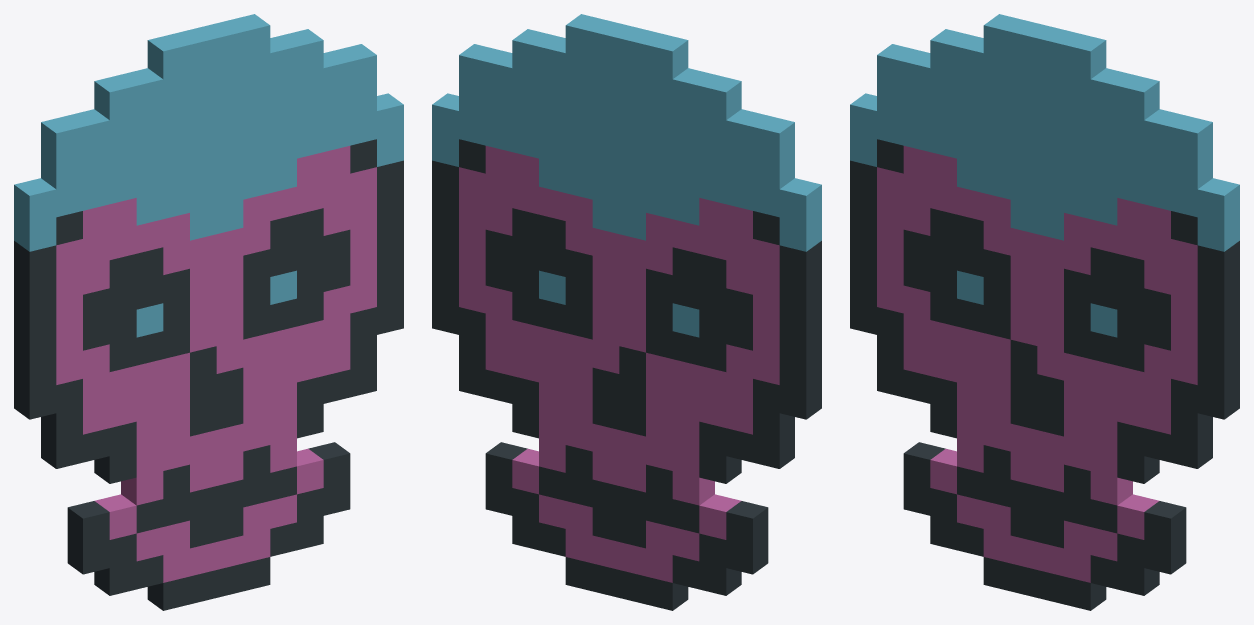
3 views of the same model, side by side, from view 1: azimuth 30°, elevation 25°; view 2: azimuth 150°, elevation 25°; view 3: azimuth 330°, elevation 25° (orthographic).
Size of the model in its own units: 0.7 by 1 by 0.05.
